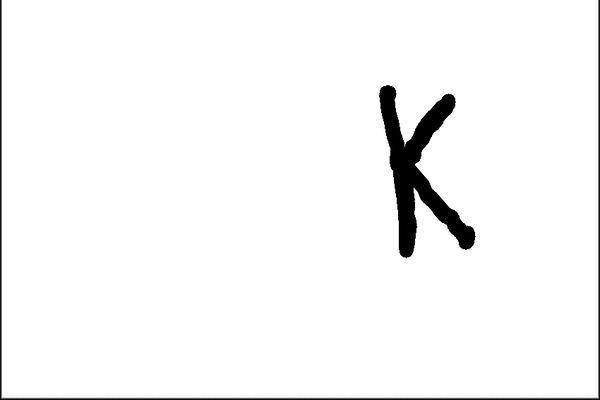K: (370, 76, 483, 263)
